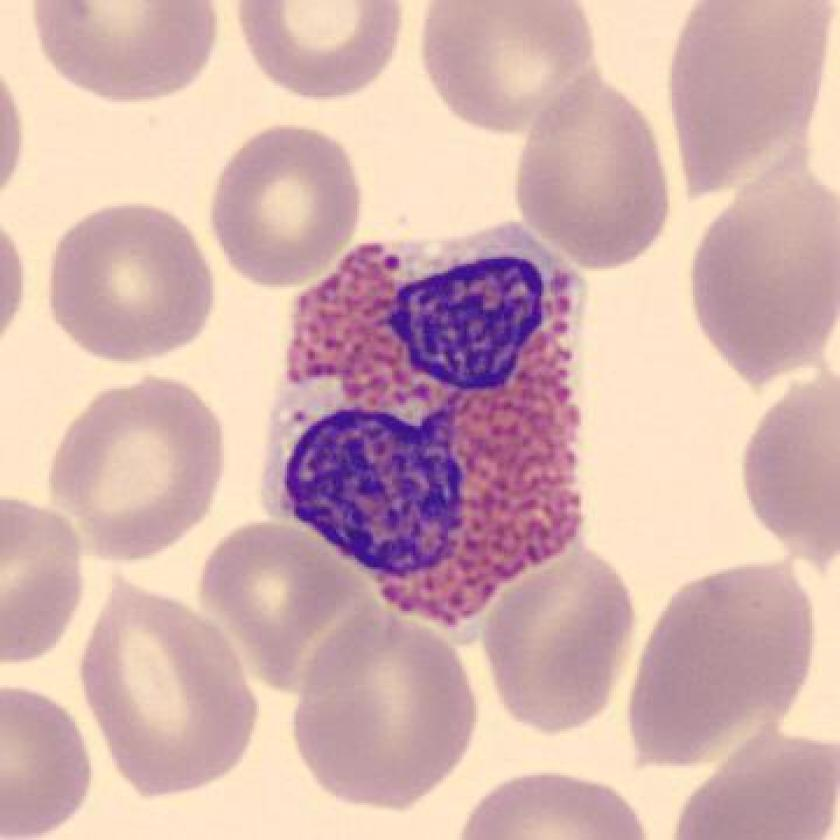eosinophil: (248, 205, 608, 631)
